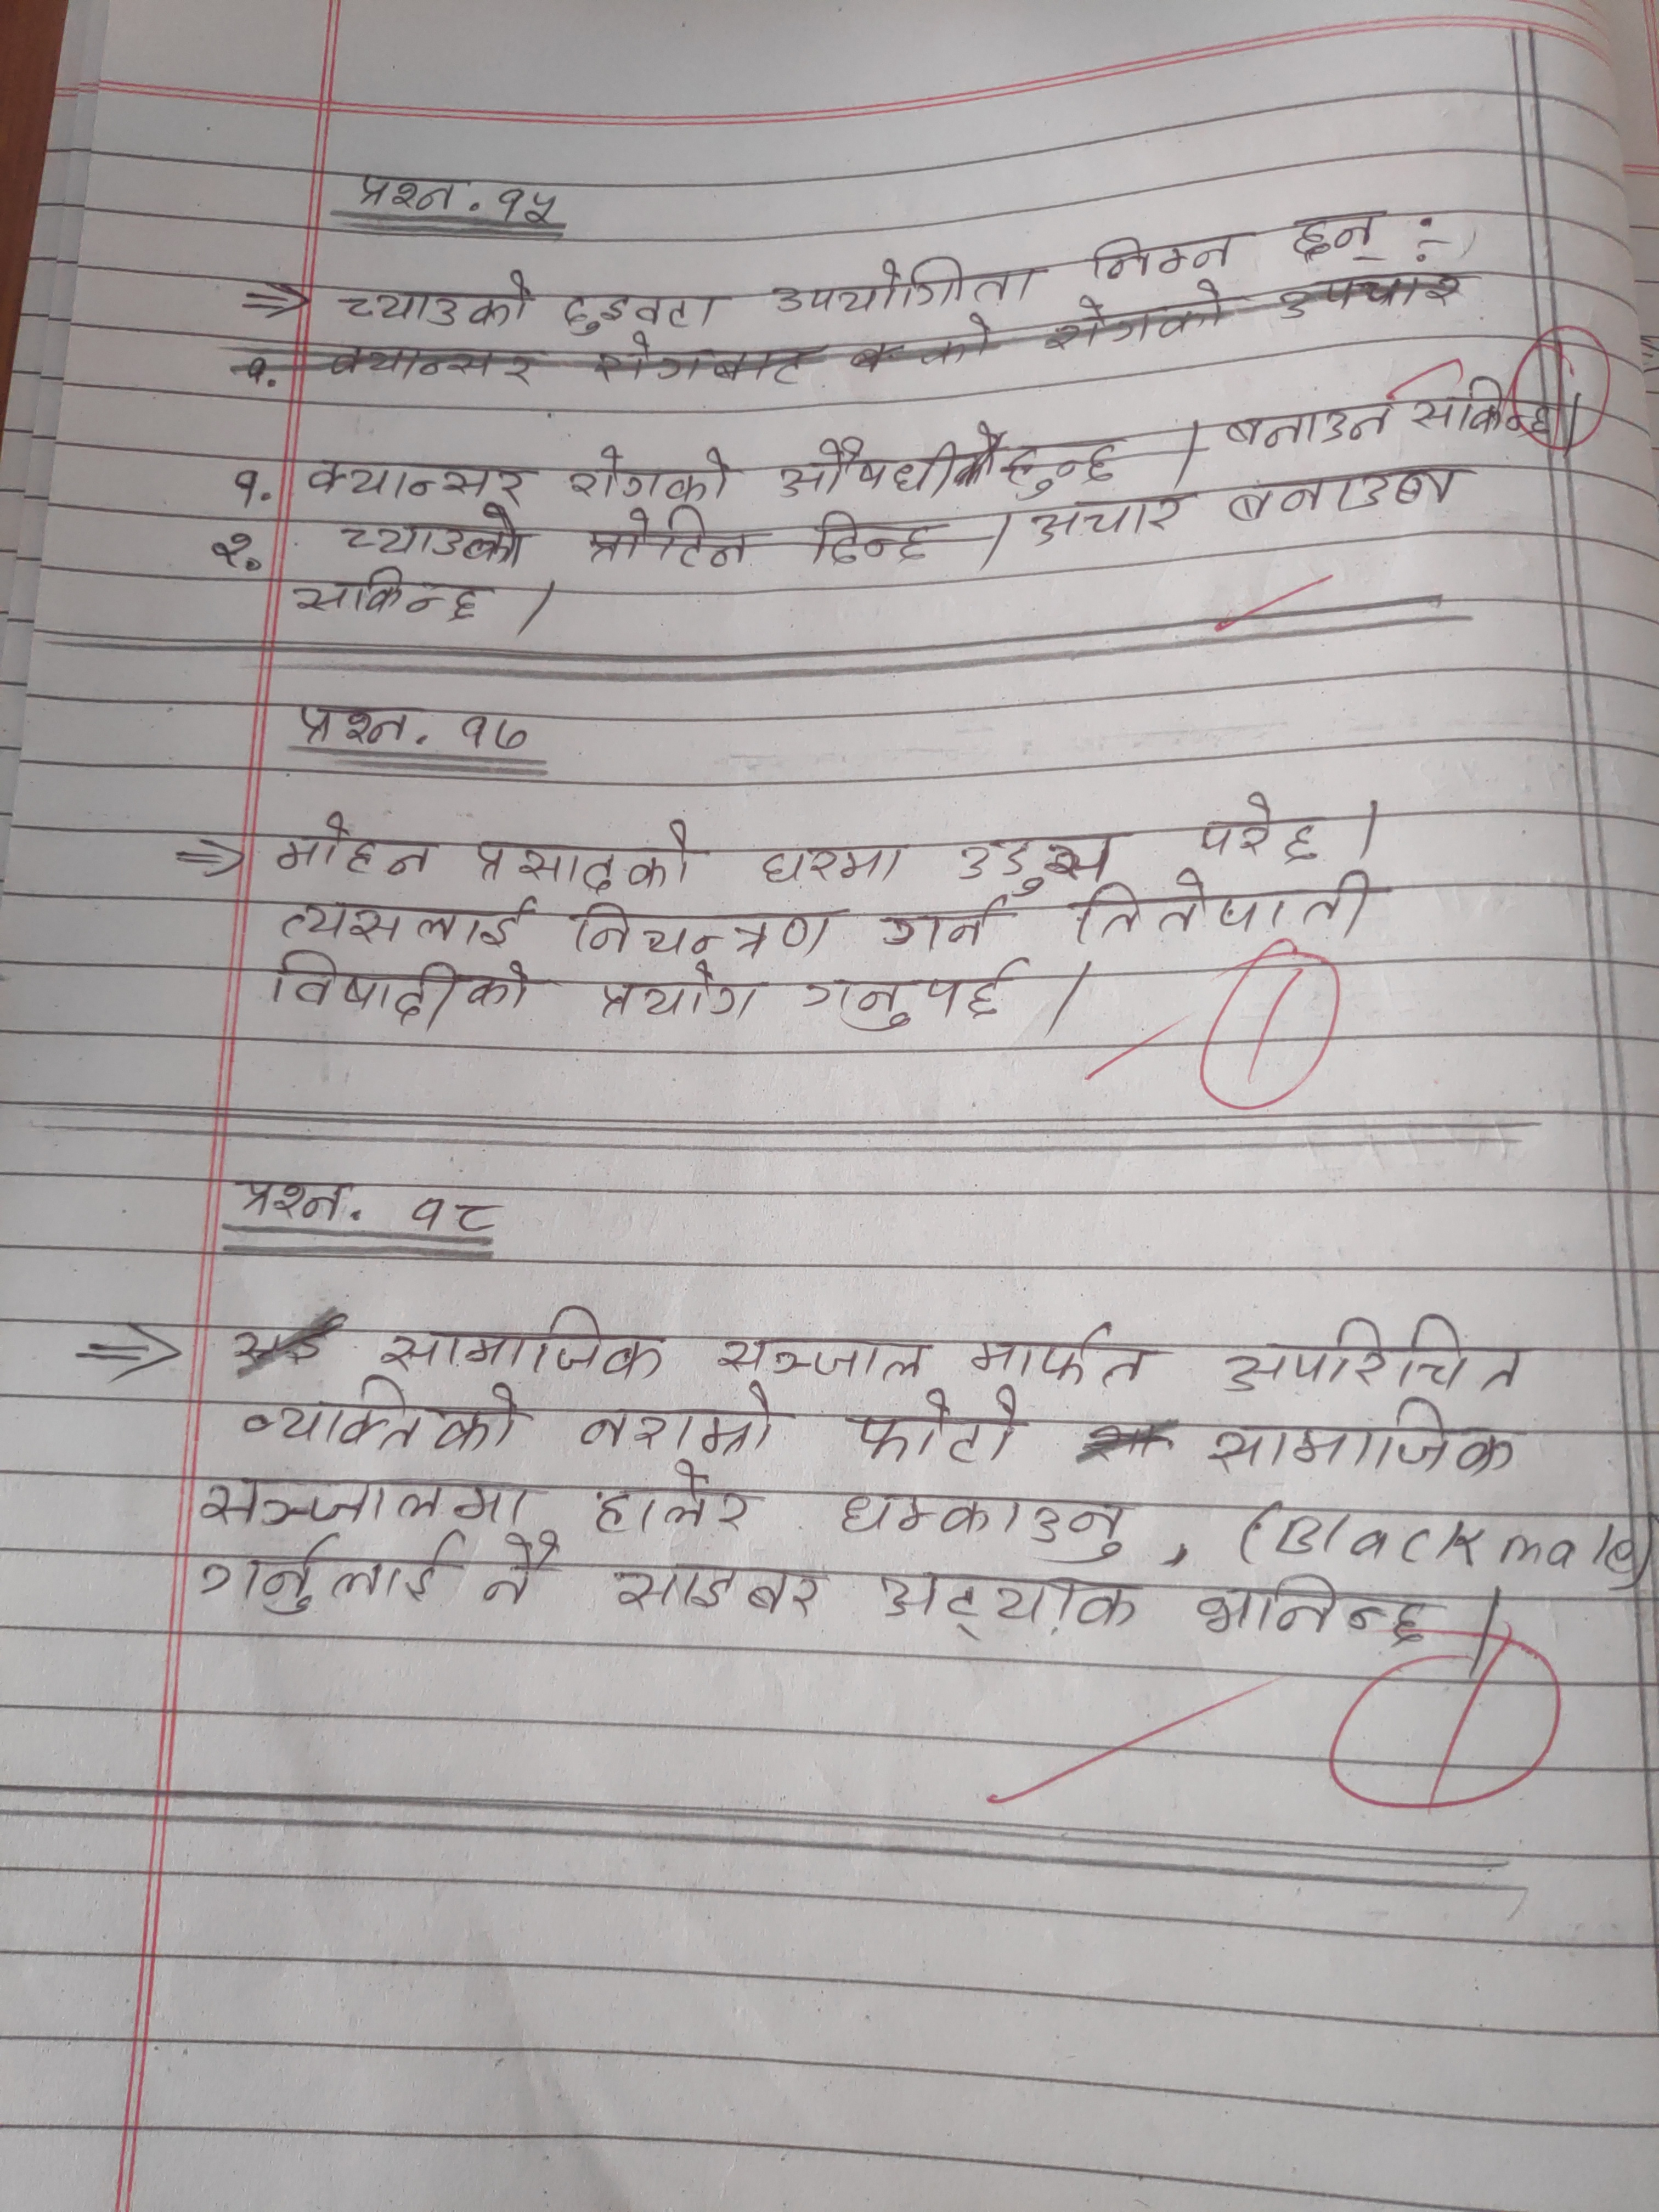text: (199, 1529, 469, 1623), (1216, 1313, 1527, 1395), (1211, 1400, 1525, 1479), (376, 1299, 666, 1381), (235, 1371, 523, 1451), (833, 1489, 1133, 1566), (270, 948, 538, 1031), (1075, 869, 1380, 941), (864, 1568, 1136, 1646), (1192, 1568, 1443, 1651), (192, 1472, 533, 1529), (471, 813, 699, 892), (795, 960, 1033, 1035), (563, 900, 852, 960), (1222, 463, 1473, 529), (603, 1555, 828, 1629), (772, 258, 1042, 317), (268, 892, 544, 949), (575, 1383, 786, 1458), (845, 1388, 1030, 1474), (331, 263, 537, 333), (589, 1458, 760, 1541), (303, 453, 540, 510), (965, 1322, 1164, 1390), (288, 561, 488, 625), (709, 1327, 932, 1383), (335, 505, 526, 570), (775, 435, 957, 500), (584, 509, 765, 573), (948, 829, 1119, 895), (275, 812, 439, 880), (563, 441, 739, 502), (1025, 496, 1188, 561), (1197, 791, 1338, 862), (598, 965, 774, 1019), (1413, 374, 1560, 439), (1218, 397, 1394, 448), (1077, 228, 1244, 279), (1007, 435, 1126, 502), (291, 693, 415, 756), (814, 510, 932, 571), (558, 291, 730, 333), (1290, 204, 1391, 272), (871, 897, 1002, 949), (756, 845, 906, 890), (483, 1527, 561, 1608), (350, 169, 462, 225), (232, 1174, 354, 1224), (406, 1186, 505, 1238), (458, 712, 545, 752), (491, 185, 561, 225), (206, 526, 258, 575), (227, 465, 268, 510)
